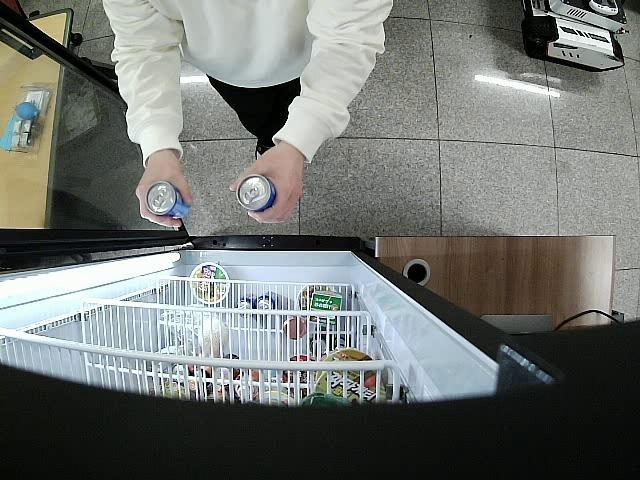15_letsbe: (146, 180, 192, 221), (236, 174, 277, 213)
